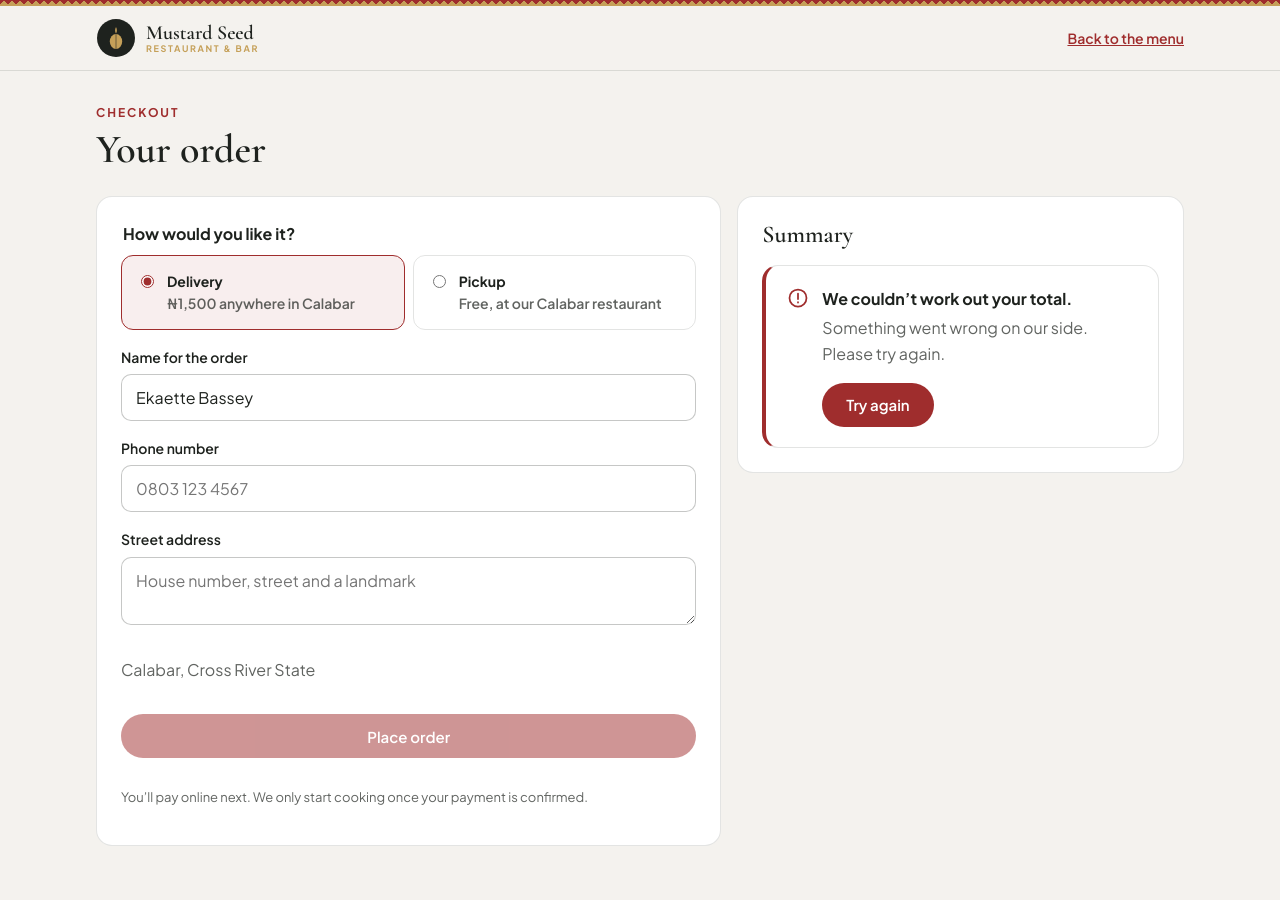
Test case: CheckoutView › shows an error with retry when the quote cannot load
Expected: the message shows "We couldn’t work out your total.", [822,288,1072,309]
Click the button "Try again" at (878, 405), box [822,383,934,427]
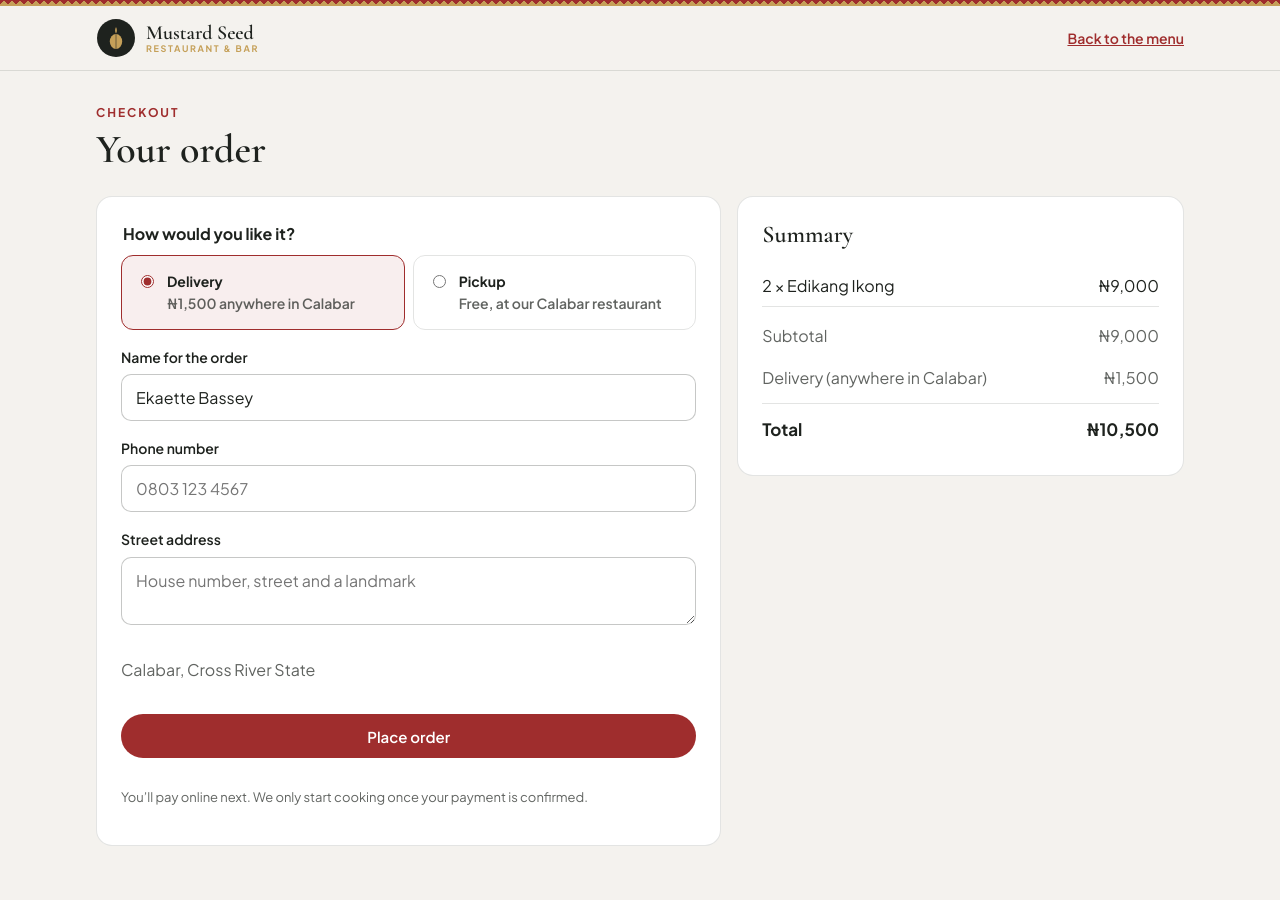
Now the text with test id "total" reads "₦10,500", box [1086,418,1159,440]
